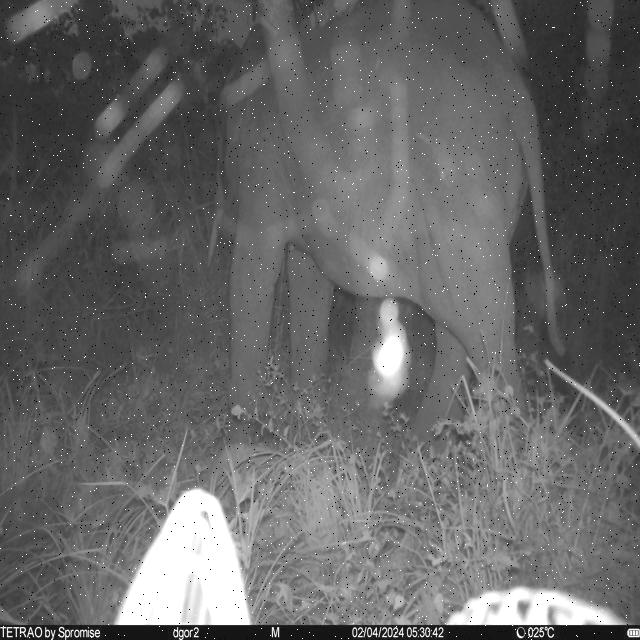elephant: (208, 0, 576, 454)
tusk: (210, 207, 224, 273)
